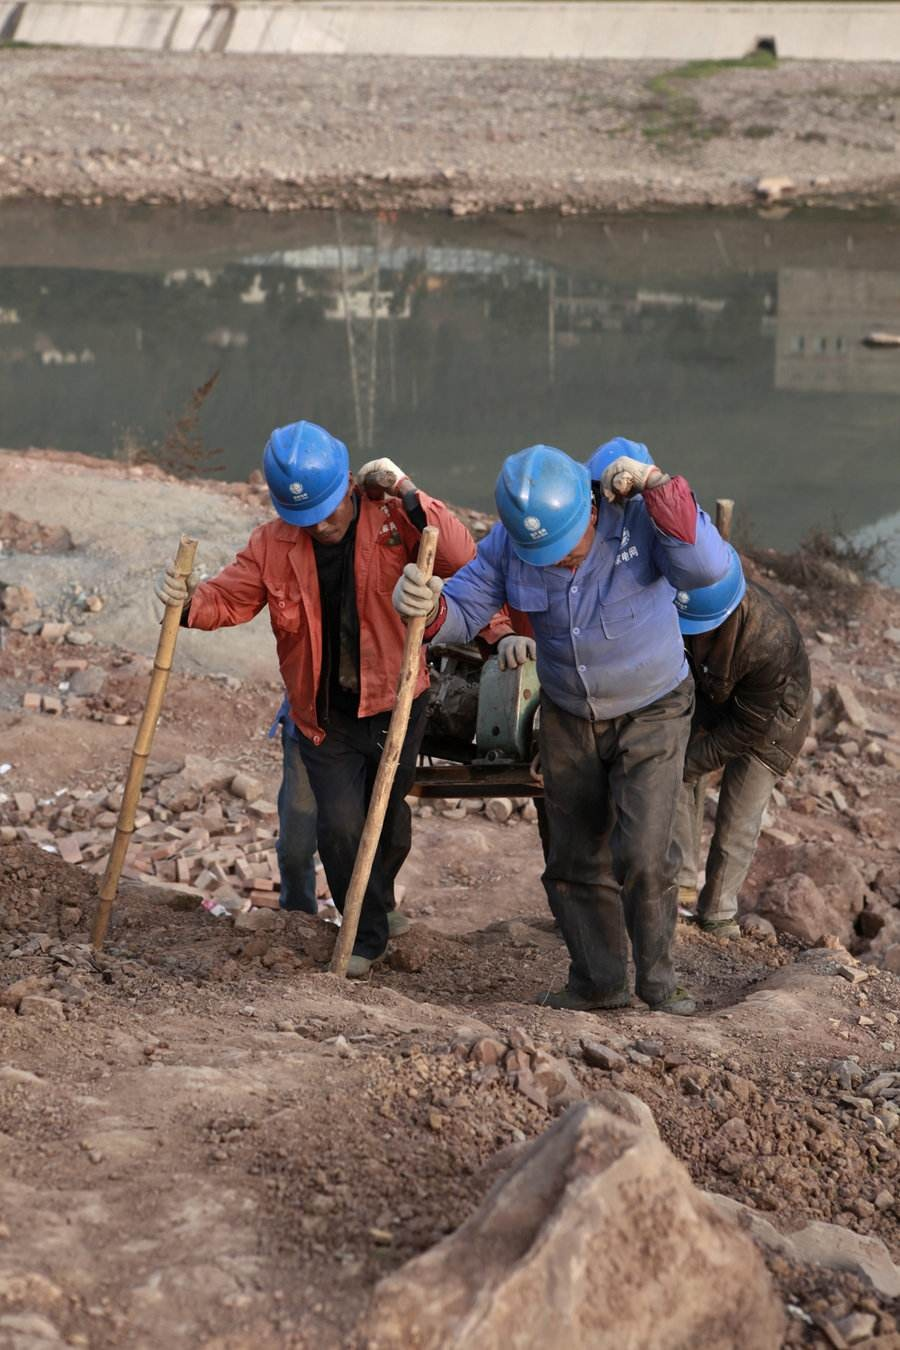blue: (491, 441, 603, 579), (256, 421, 364, 553)
